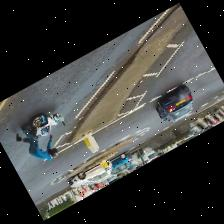person: (15, 126, 57, 160)
